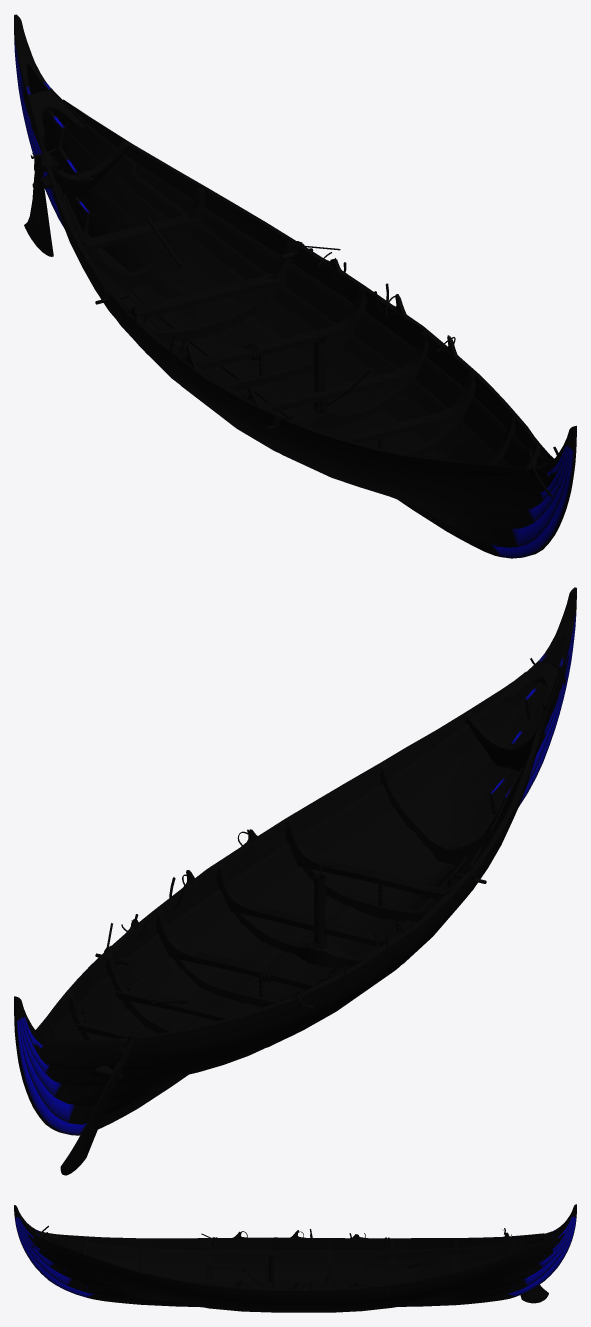
File: ship.fbx
The picture shows the model from 3 angles, top to bottom: view 1: azimuth 30°, elevation 25°; view 2: azimuth 150°, elevation 25°; view 3: azimuth 270°, elevation 25°; orthographic projection. The views are drawn at different scales.
Parts seen in each view (by area): view 1: Stay1; view 2: Stay1; view 3: Stay1.
Part boxes in pixels (<box>): Stay1: <box>14,14,576,558</box>; Stay1: <box>14,587,576,1175</box>; Stay1: <box>14,1204,576,1312</box>.
Bounding box in the file's own units: 178 × 156 × 771.
